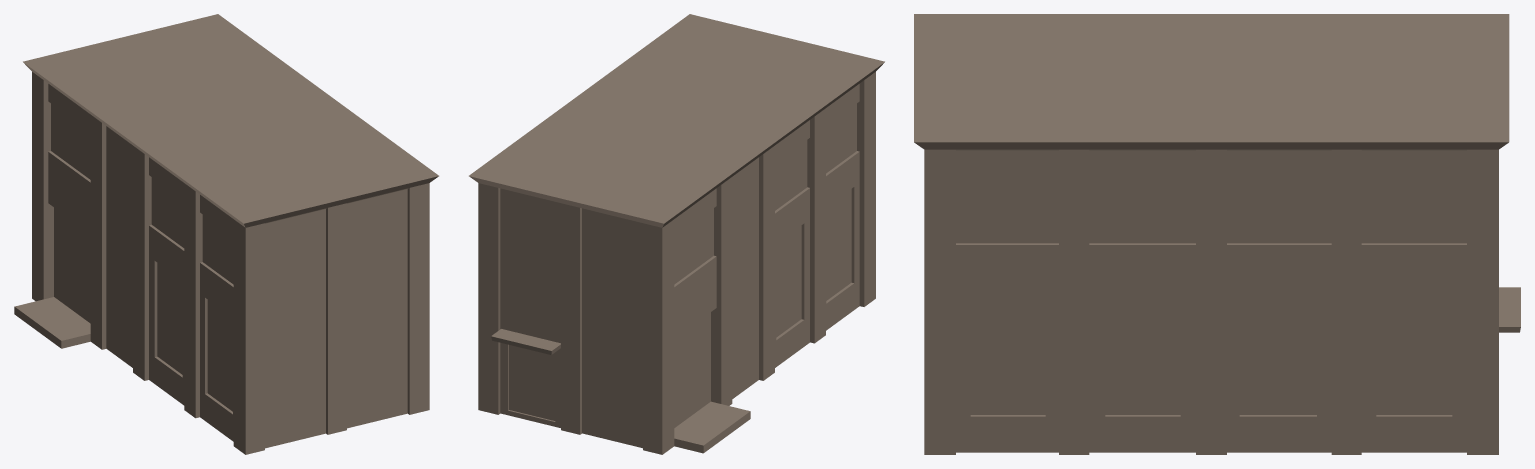
The model's file is factory-hall.lod2.glb.
3 renders of one model, left to right at view 1: azimuth 30°, elevation 25°; view 2: azimuth 150°, elevation 25°; view 3: azimuth 270°, elevation 25°, orthographic. The views are drawn at different scales.
Visible parts, largest first — view 1: factory_1_factory_1_0; view 2: factory_1_factory_1_0; view 3: factory_1_factory_1_0.
Part boxes in pixels (x1,y1,x2,y2): factory_1_factory_1_0: (14, 14, 438, 454); factory_1_factory_1_0: (469, 14, 884, 454); factory_1_factory_1_0: (914, 14, 1520, 454).
Size of the model in its own units: 14.59 by 14.96 by 26.
